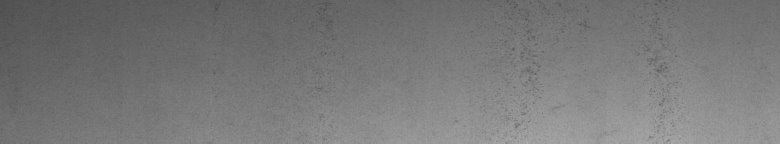ib: (508, 4, 668, 132)
